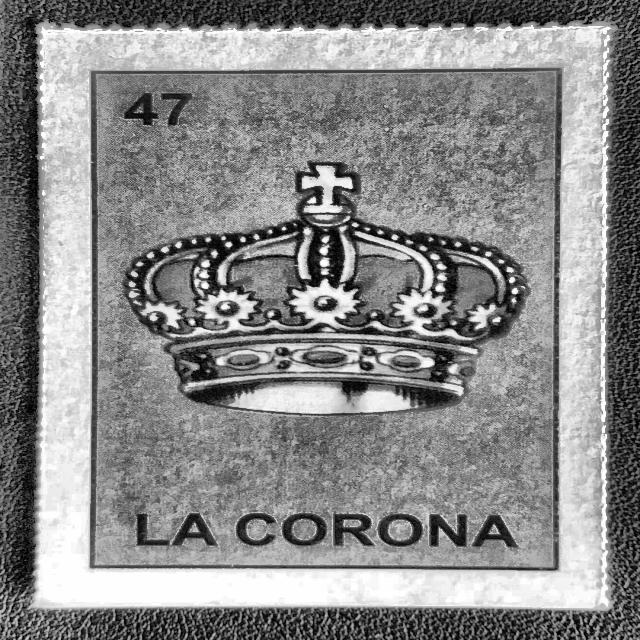La Corona: (51, 38, 586, 595)
